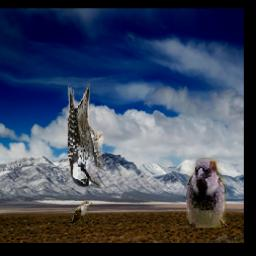Cuckoo: (69, 202, 93, 227)
Sparrow: (186, 158, 227, 228)
Woodpecker: (67, 83, 104, 188)
